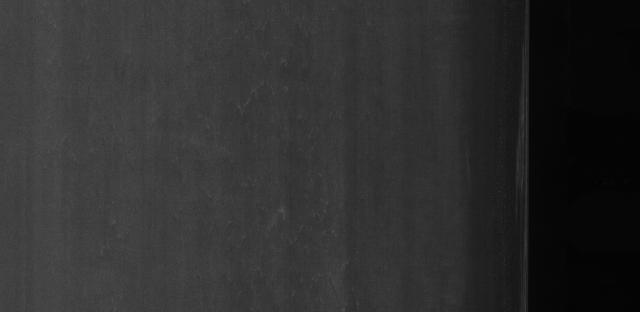silk_spot: (231, 184, 368, 273), (210, 59, 325, 135)
